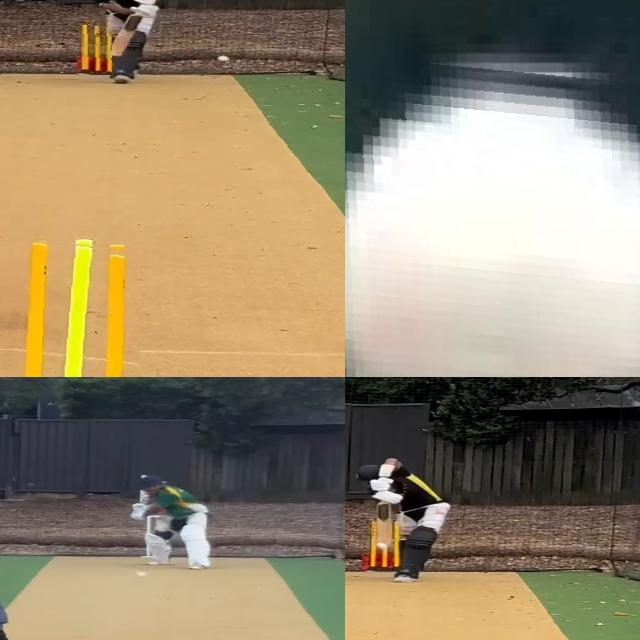Cricket ball: (345, 49, 640, 377), (133, 568, 149, 578), (217, 55, 231, 63), (375, 541, 389, 549)
Stumps: (16, 238, 144, 377), (82, 22, 112, 75)
